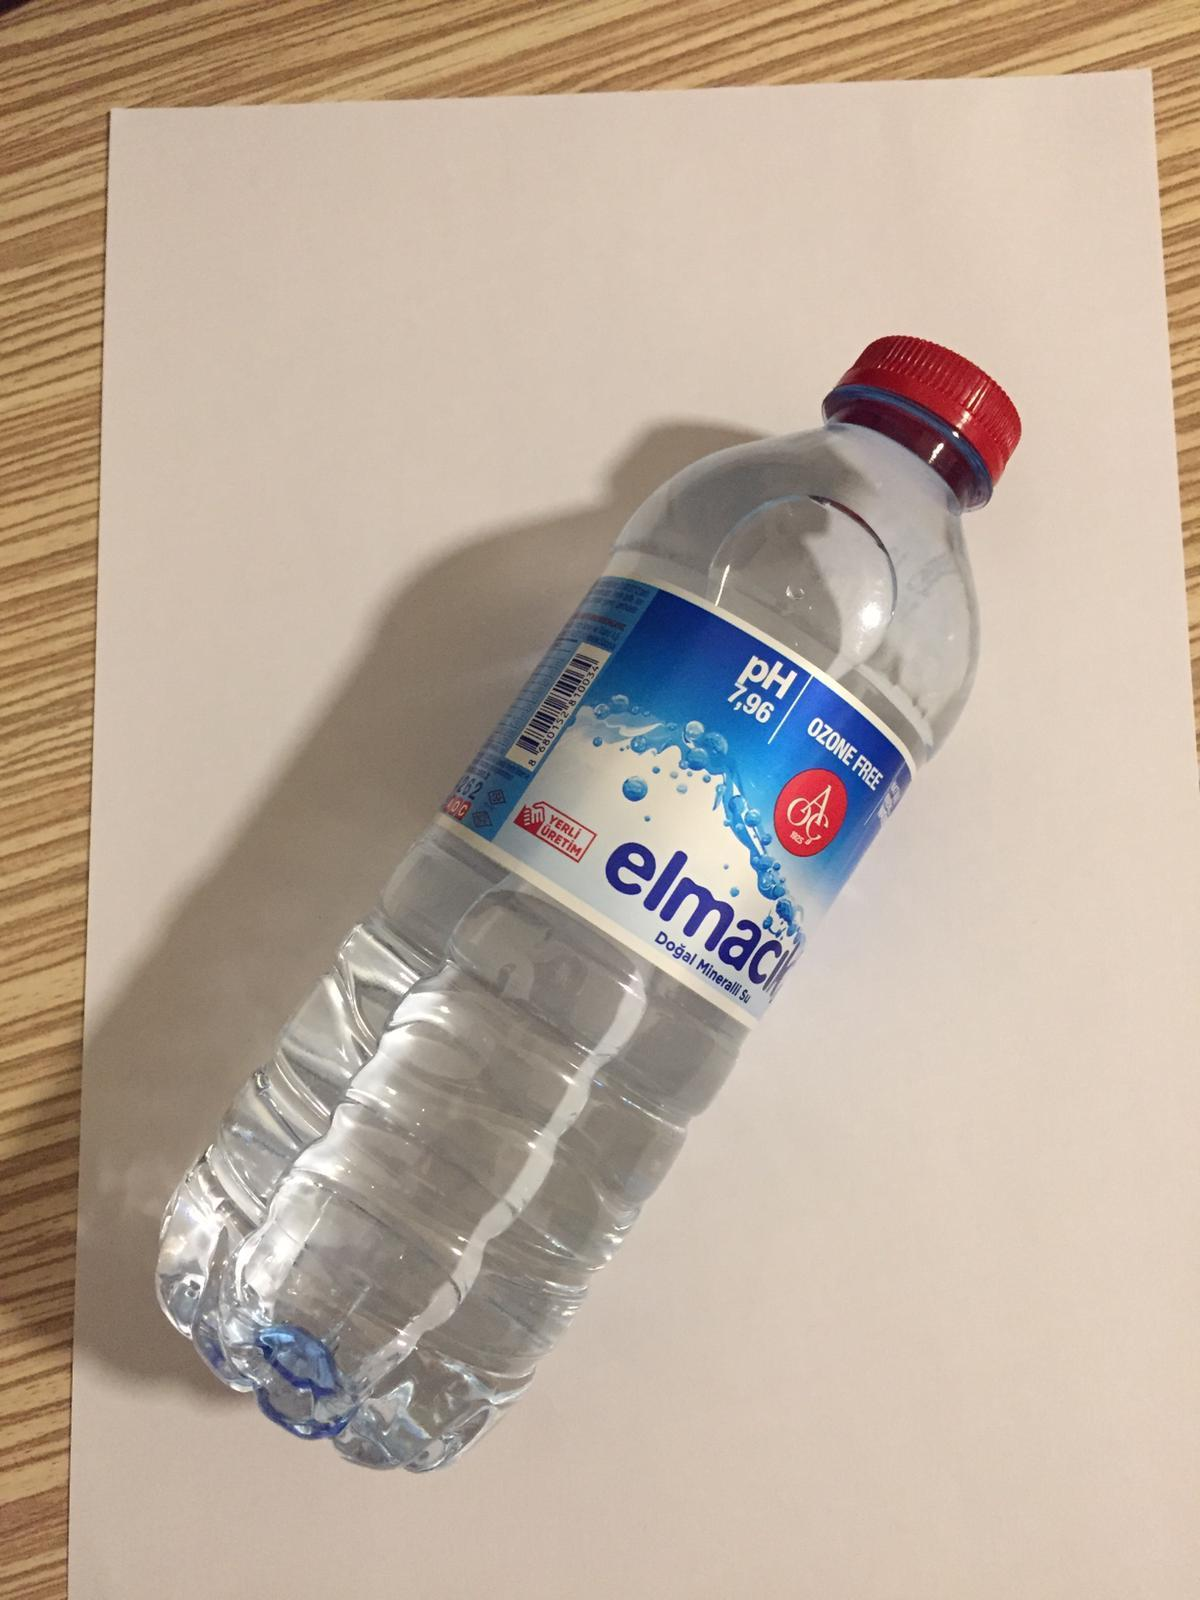bottle: (158, 331, 1029, 1473)
